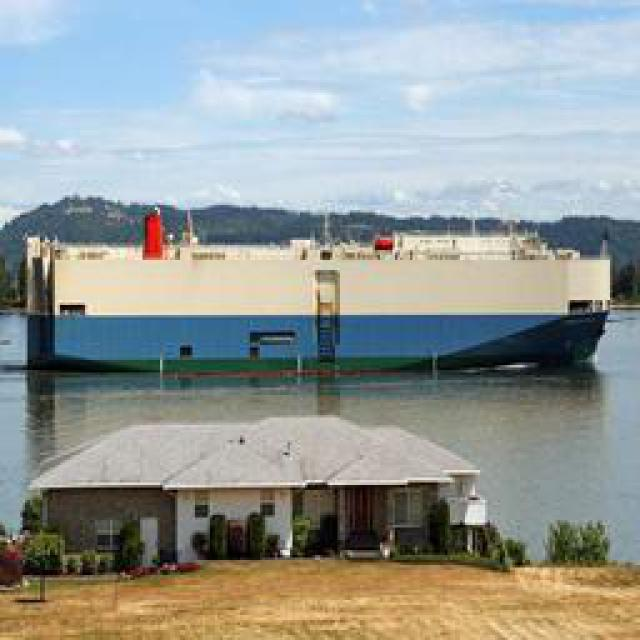Ship: (18, 230, 623, 383)
